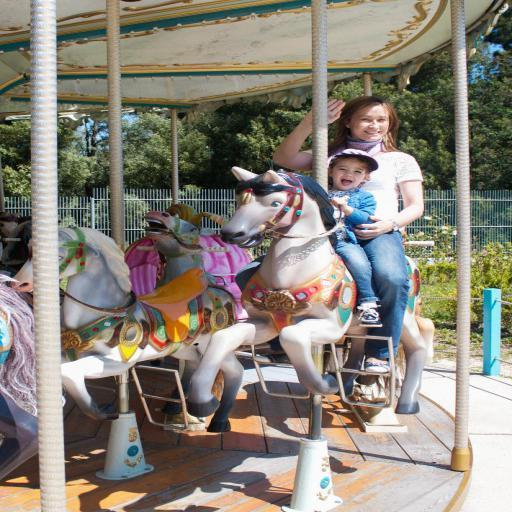horse: (184, 164, 438, 415), (8, 224, 246, 436), (140, 210, 235, 416), (0, 273, 68, 418)
